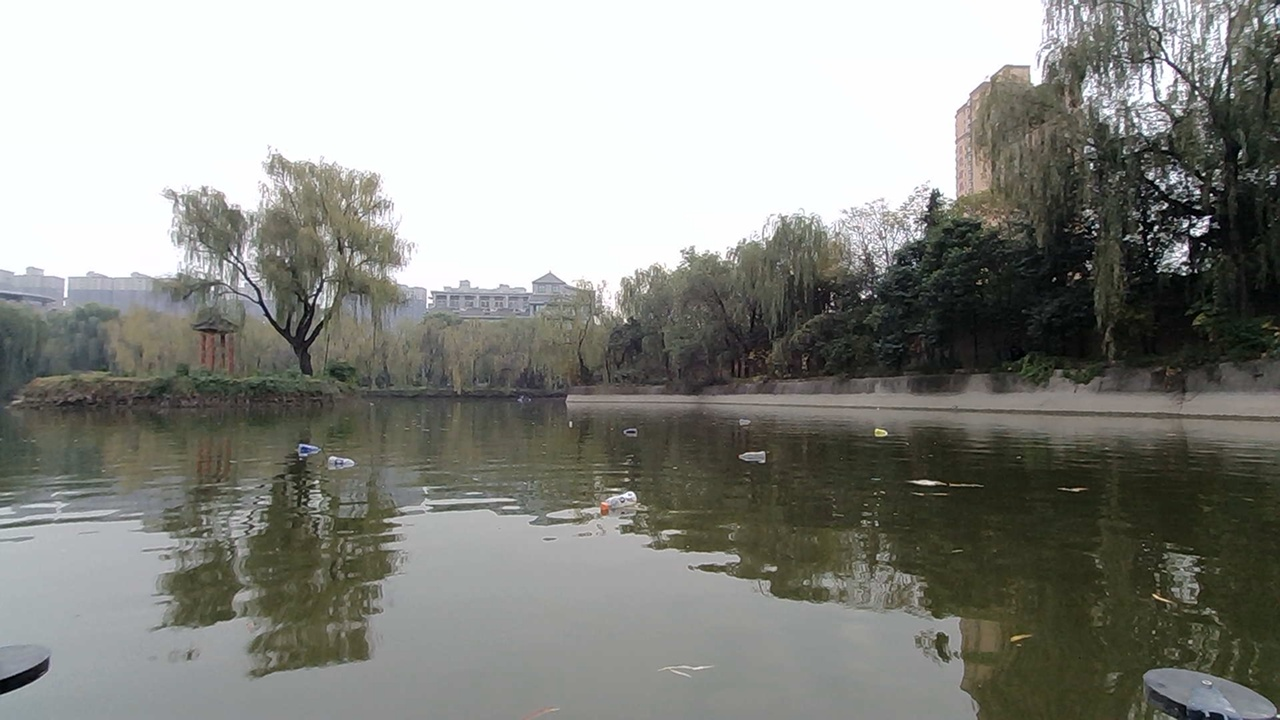bottle: (727, 425, 777, 469), (320, 438, 362, 476), (598, 491, 638, 521), (615, 408, 649, 440), (863, 420, 890, 449), (297, 438, 320, 464), (558, 418, 585, 437)
